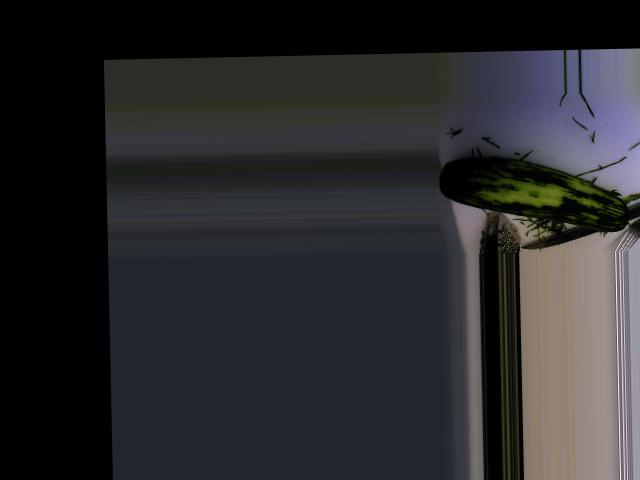cucumber: (439, 153, 630, 235)
